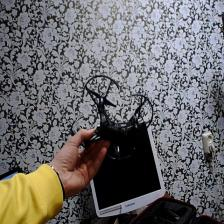drone: (77, 71, 155, 168)
